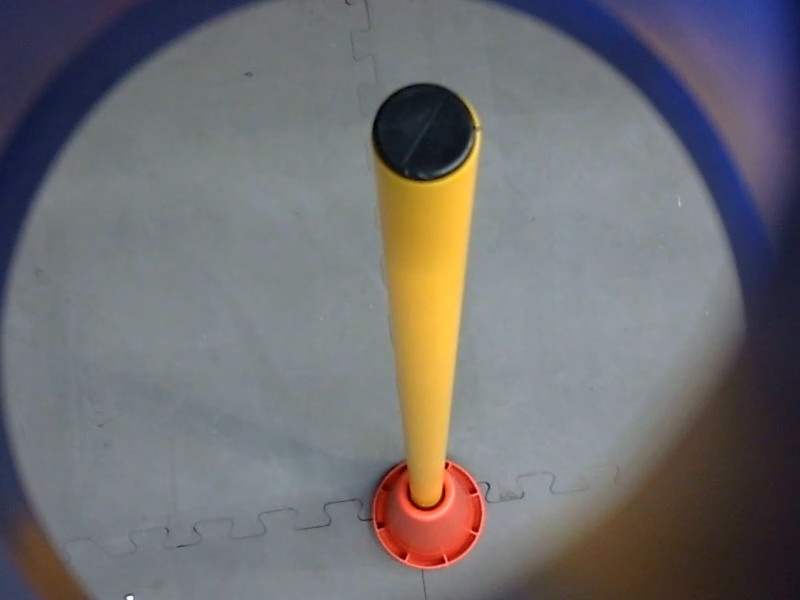tip: (362, 75, 490, 194)
